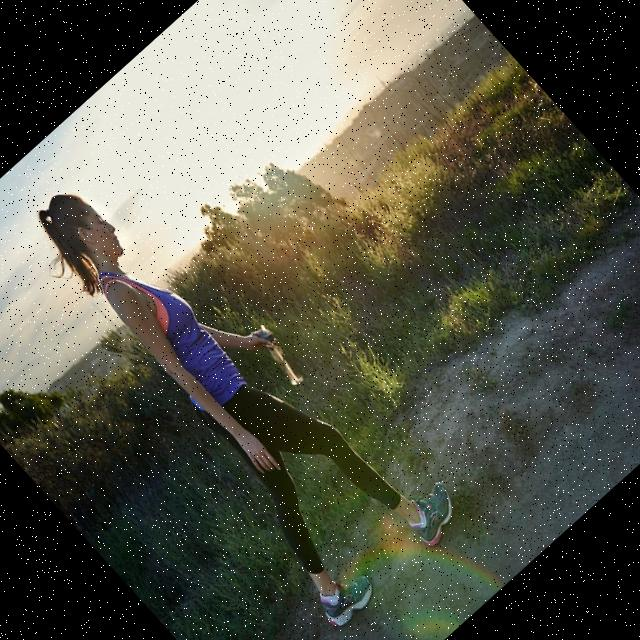Person: (0, 130, 470, 634)
